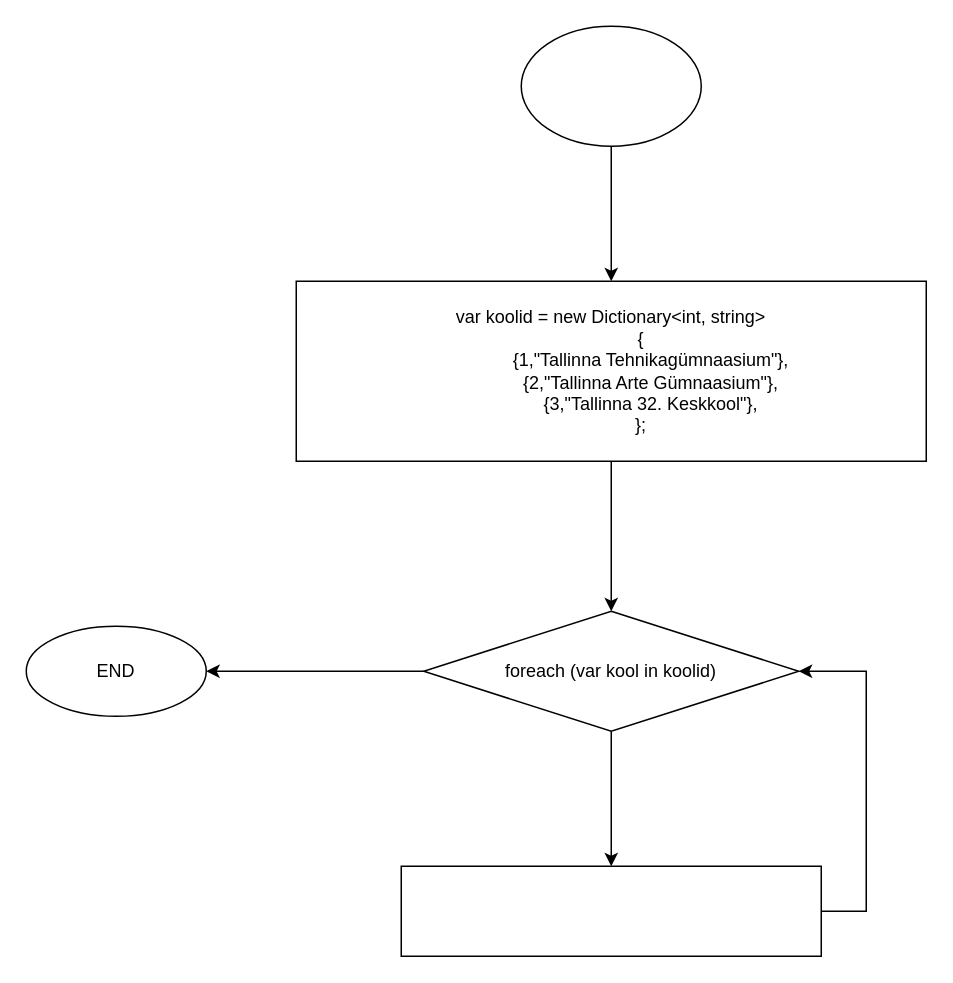
The diagram is 953 pixels wide and 983 high, and some of its shapes have lost their labels. The centre of each missing label's shape, as x and y in pixels:
Console.WriteLine($"{kool.Key} - {kool.Value}");: (x=610, y=910)
START: (x=610, y=85)
